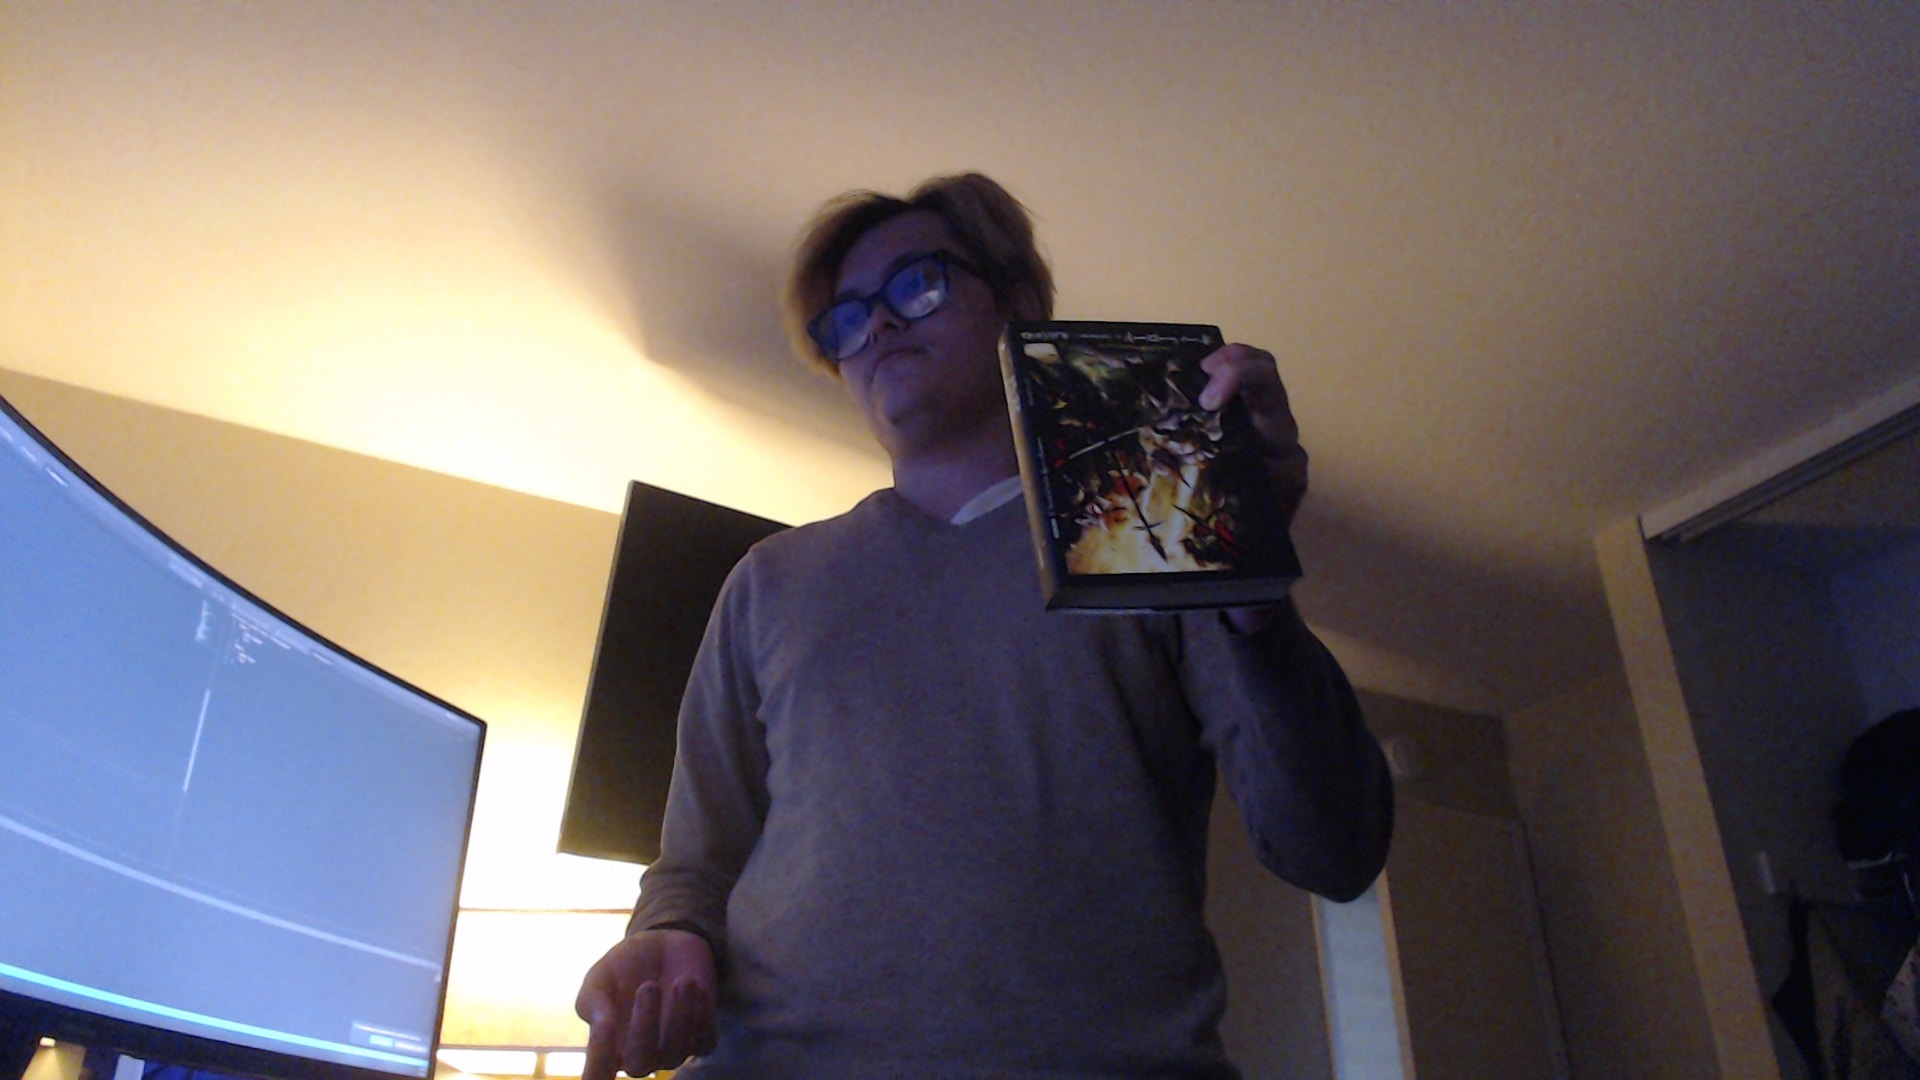book: (997, 311, 1298, 609)
